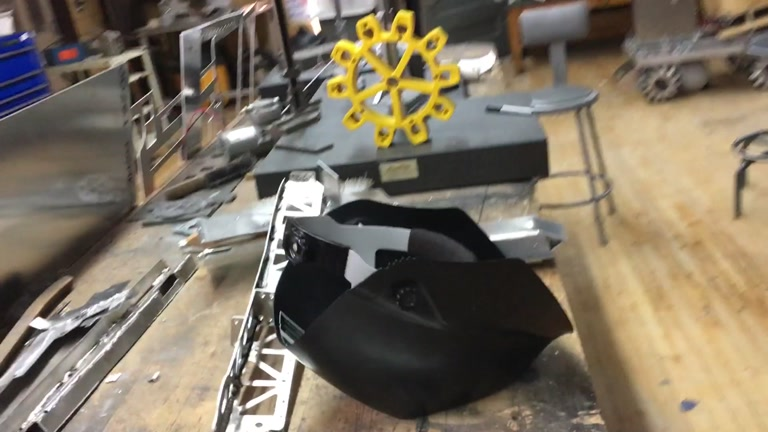gear: (324, 11, 461, 148)
